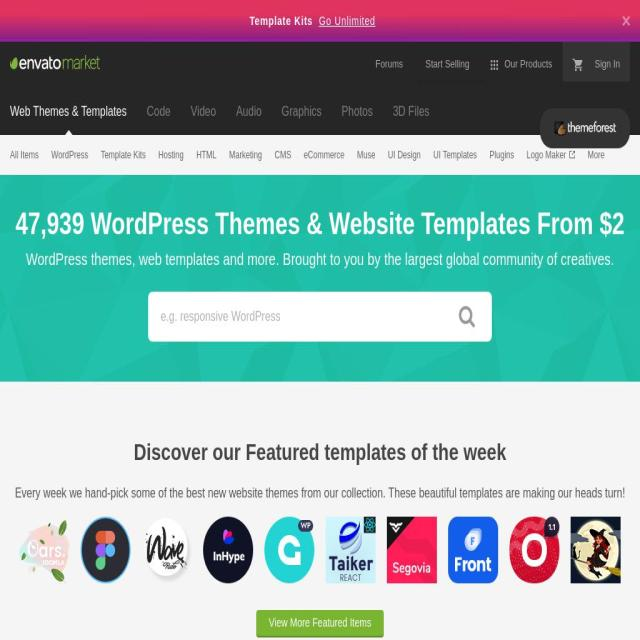button: (0, 0, 640, 42), (10, 88, 127, 136), (10, 42, 100, 82), (256, 610, 384, 637), (478, 42, 562, 82), (412, 42, 480, 82), (442, 292, 492, 342), (363, 42, 413, 82), (281, 88, 322, 136), (520, 141, 582, 171), (392, 88, 430, 136), (587, 42, 631, 82), (94, 141, 152, 171), (427, 141, 484, 171), (297, 141, 351, 171), (341, 88, 373, 136), (45, 141, 95, 171), (222, 141, 268, 171), (382, 141, 428, 171), (4, 141, 46, 171), (146, 88, 172, 136), (236, 88, 262, 136), (191, 88, 216, 136), (612, 0, 640, 42), (152, 141, 190, 171), (483, 141, 521, 171), (189, 141, 223, 171), (562, 42, 587, 82), (351, 141, 382, 171), (268, 141, 298, 171), (581, 141, 611, 171)
field: (148, 292, 442, 342)
heading: (5, 202, 635, 248), (12, 435, 628, 471), (5, 246, 635, 272)
image: (0, 175, 640, 383), (0, 0, 640, 42), (20, 517, 70, 584), (80, 517, 130, 584), (142, 517, 192, 584), (203, 517, 253, 584), (264, 517, 314, 584), (326, 517, 376, 584), (387, 517, 437, 584), (448, 517, 498, 584), (510, 517, 560, 584), (570, 517, 620, 584), (550, 114, 620, 143), (10, 55, 100, 69), (459, 306, 475, 328), (489, 58, 499, 72), (572, 58, 582, 72), (622, 16, 630, 26)
link: (249, 13, 313, 28)
text: (12, 484, 628, 504), (10, 104, 127, 119), (316, 13, 376, 28), (503, 56, 552, 72), (425, 56, 469, 72), (281, 104, 322, 119), (392, 104, 430, 119), (341, 104, 373, 119), (375, 56, 403, 72), (594, 56, 620, 72), (191, 104, 217, 119), (236, 104, 262, 119), (146, 104, 171, 119)
